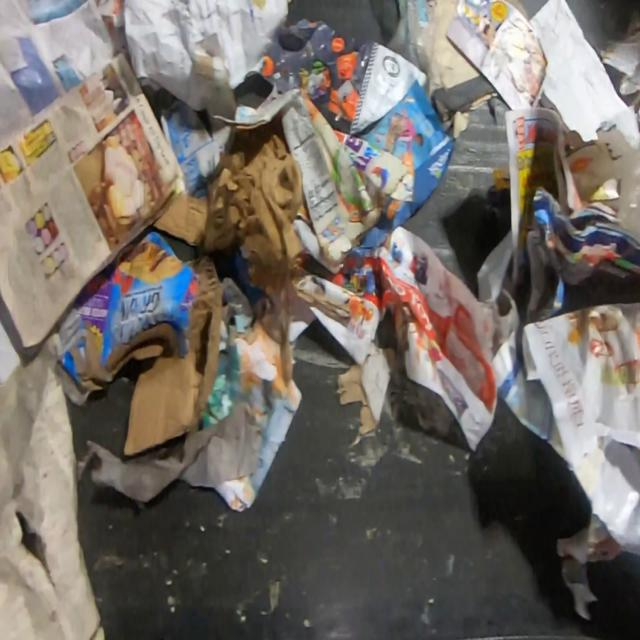cardboard: (41, 225, 224, 458), (150, 128, 304, 287)
soft_plastic: (385, 2, 446, 105), (618, 136, 640, 244)
